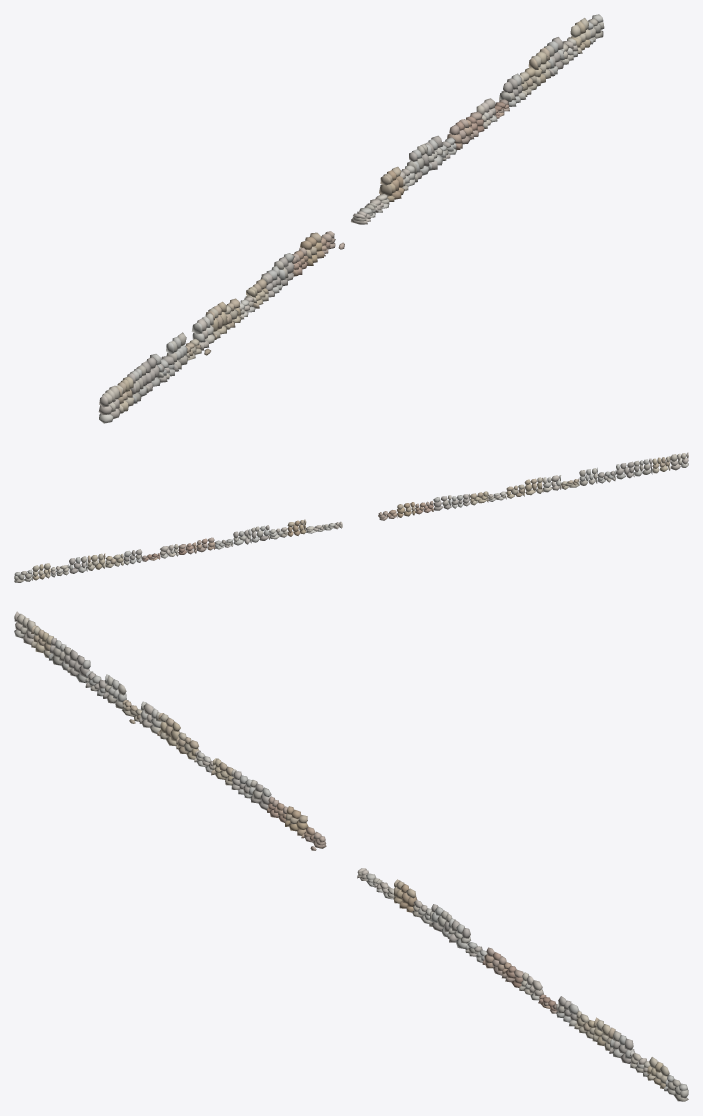
Rendered from farm_-37_-31_near.glb.
3 views of the same model, one above another, from view 1: azimuth 30°, elevation 25°; view 2: azimuth 150°, elevation 25°; view 3: azimuth 270°, elevation 25° (orthographic). The views are drawn at different scales.
Parts seen in each view (by area): view 1: geometry_0; view 2: geometry_0; view 3: geometry_0.
Boxes of the visible parts, x1,y1,x2,y2 form: geometry_0: [98, 14, 604, 423]; geometry_0: [14, 452, 688, 582]; geometry_0: [14, 611, 688, 1101].
Size of the model in its own units: 45.38 by 8.19 by 36.38.
